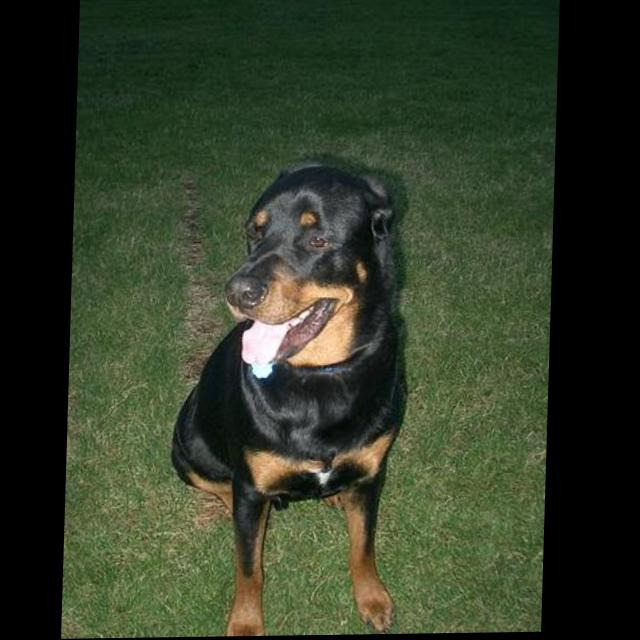rottweiler: (171, 162, 419, 639)
